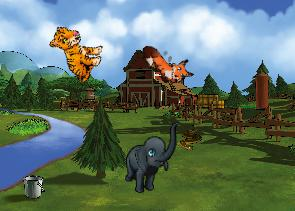elephant: (123, 122, 181, 193)
fox: (138, 31, 197, 93)
tiger: (41, 22, 108, 85)
